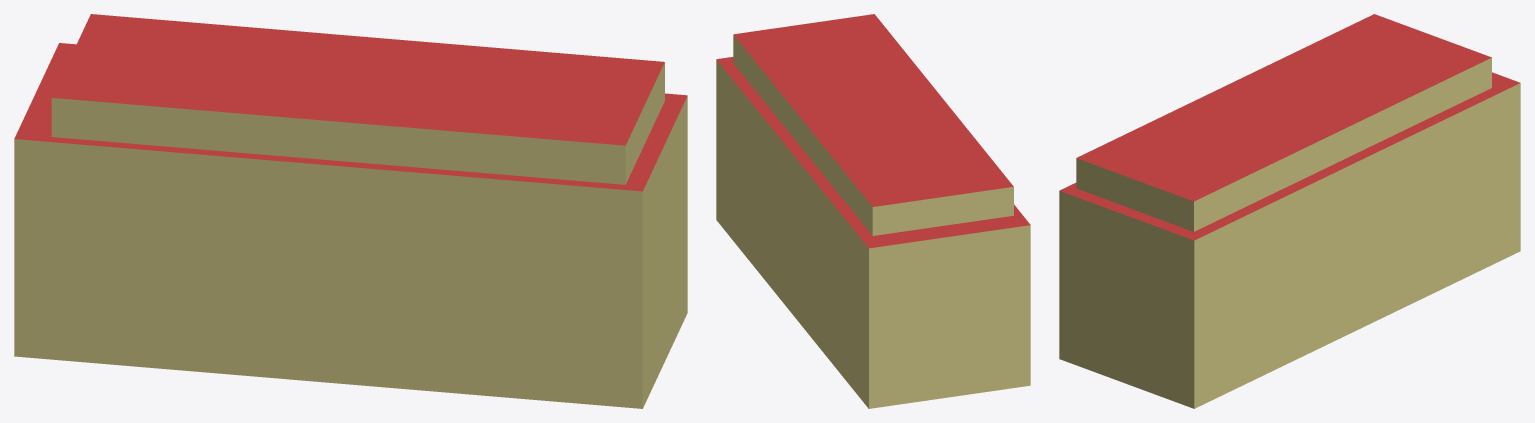
The picture shows the model from 3 angles, left to right: view 1: azimuth 30°, elevation 25°; view 2: azimuth 150°, elevation 25°; view 3: azimuth 270°, elevation 25°; orthographic projection. The views are drawn at different scales.
Visible parts, largest first — view 1: group_6, group_4, group_5, group_3; view 2: group_6, group_4, group_5, group_3; view 3: group_6, group_4, group_5, group_3.
Boxes of the visible parts, <box> form: group_6: <box>14,96,687,408</box>; group_4: <box>52,14,664,145</box>; group_5: <box>51,62,664,184</box>; group_3: <box>14,43,687,191</box>; group_6: <box>716,60,1030,408</box>; group_4: <box>733,14,1013,206</box>; group_5: <box>733,35,1013,235</box>; group_3: <box>716,57,1030,248</box>; group_6: <box>1059,83,1520,408</box>; group_4: <box>1077,14,1491,201</box>; group_5: <box>1076,58,1491,231</box>; group_3: <box>1059,72,1520,240</box>.
Bounding box in the file's own units: 34.91 × 32.79 × 15.58.
